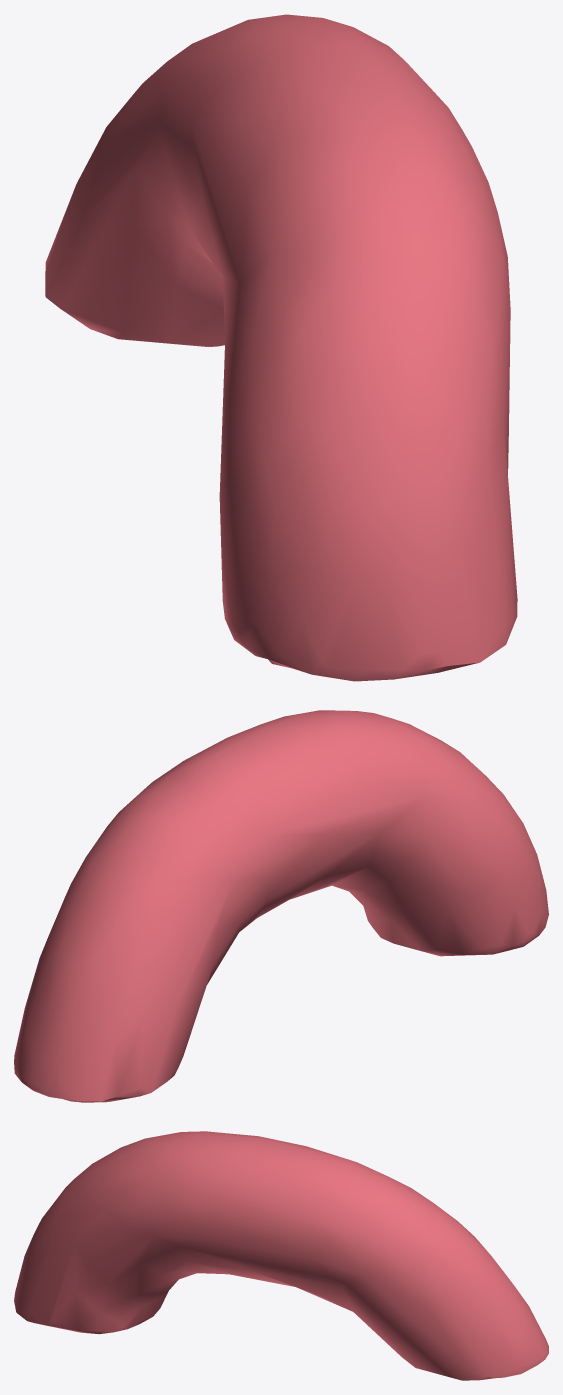
Rendered from fma3768_fj3411.glb.
3 renders of one model, top to bottom at view 1: azimuth 30°, elevation 25°; view 2: azimuth 150°, elevation 25°; view 3: azimuth 270°, elevation 25°, orthographic. The views are drawn at different scales.
Visible parts, largest first — view 1: FMA3768_FJ3411; view 2: FMA3768_FJ3411; view 3: FMA3768_FJ3411.
Boxes of the visible parts, x1=… form: FMA3768_FJ3411: x1=45, y1=14, x2=517, y2=681; FMA3768_FJ3411: x1=14, y1=710, x2=548, y2=1102; FMA3768_FJ3411: x1=14, y1=1131, x2=548, y2=1380.
Size of the model in its own units: 0.0417 by 0.0352 by 0.0873.
